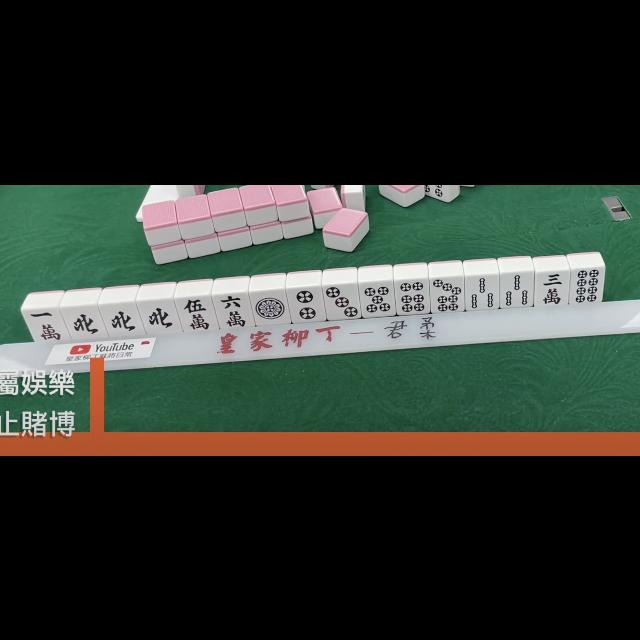b3: (501, 271, 534, 307), (466, 274, 498, 310)
c1: (26, 306, 64, 342)
c3: (536, 270, 568, 306)
c5: (180, 296, 214, 332)
c6: (216, 292, 250, 330)
d1: (252, 290, 288, 324)
d2: (289, 285, 323, 321)
d3: (324, 283, 360, 319)
d5: (361, 280, 393, 316)
d6: (396, 278, 428, 312)
d7: (431, 276, 464, 312)
d8: (570, 268, 604, 304)
wn: (142, 298, 178, 334), (68, 303, 102, 339), (106, 301, 140, 337)
